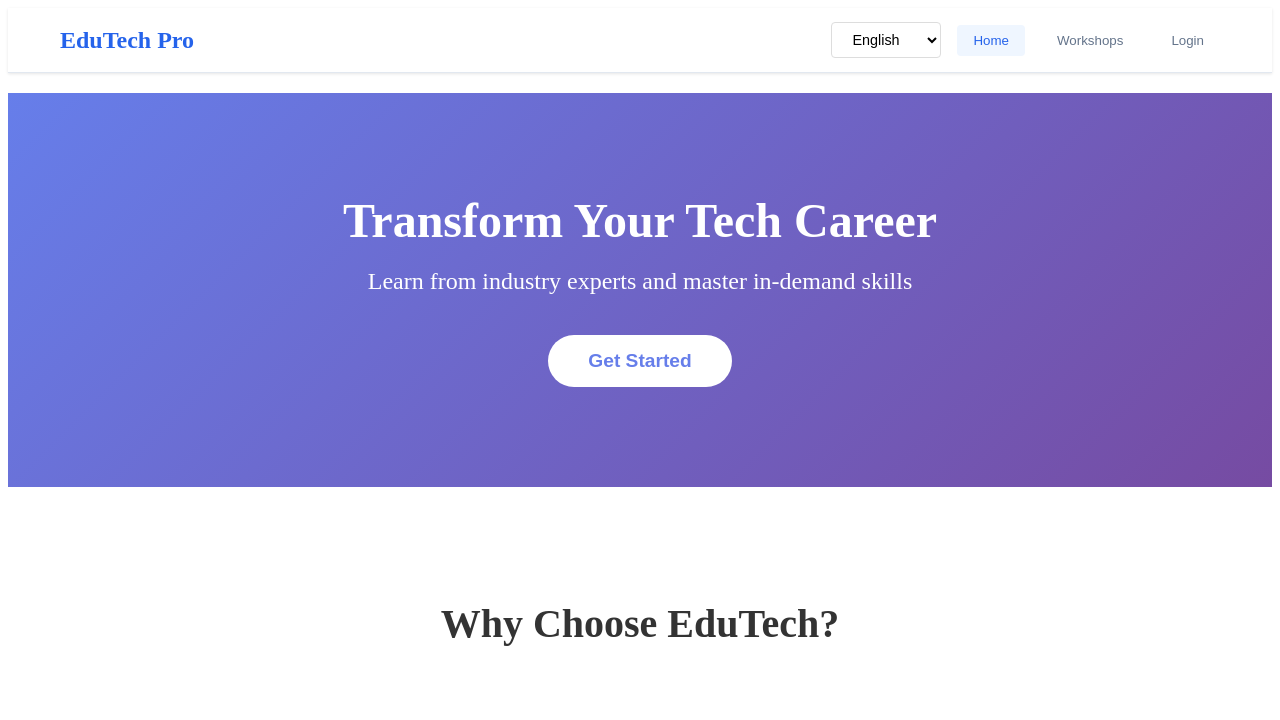
Test: Accessibility › should have form labels
The image size is (1280, 720).
Click the button "Login". click: (1188, 41)
box: [1155,25,1220,56]
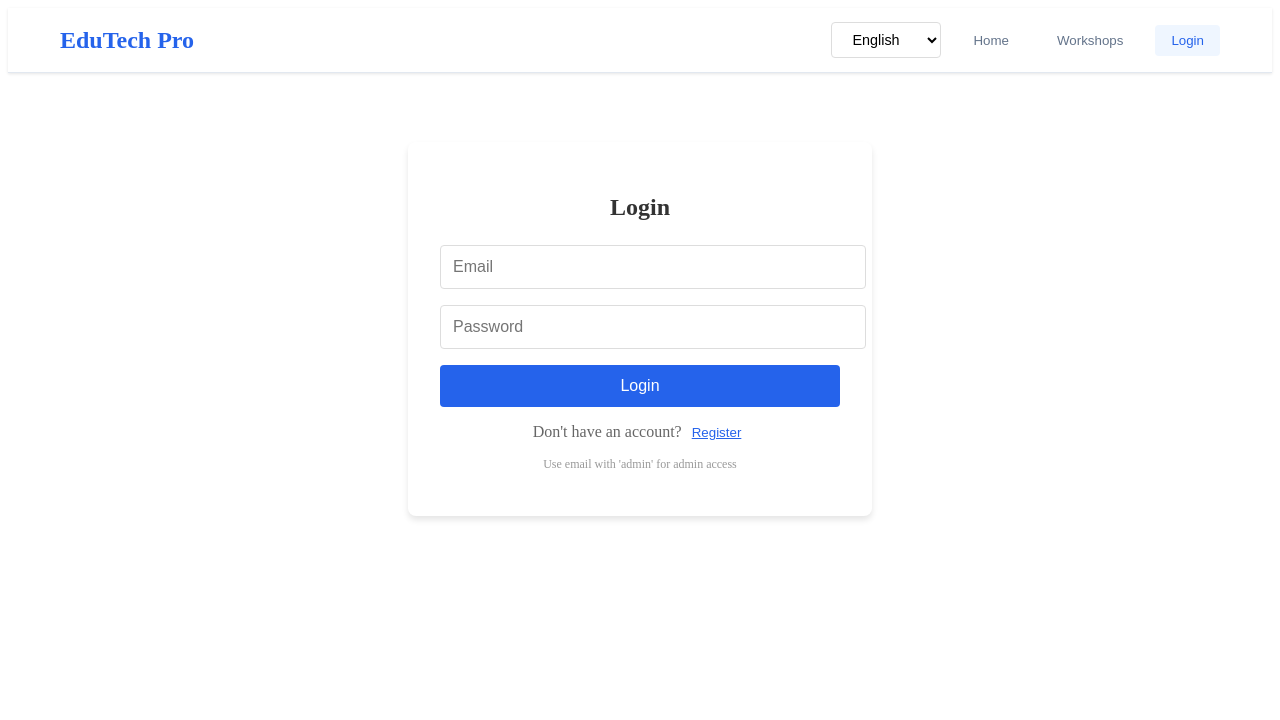
Now the field with placeholder "Email" is shown, box [440,245,866,289]
Now the password field with placeholder "Password" is shown, box [440,305,866,349]
